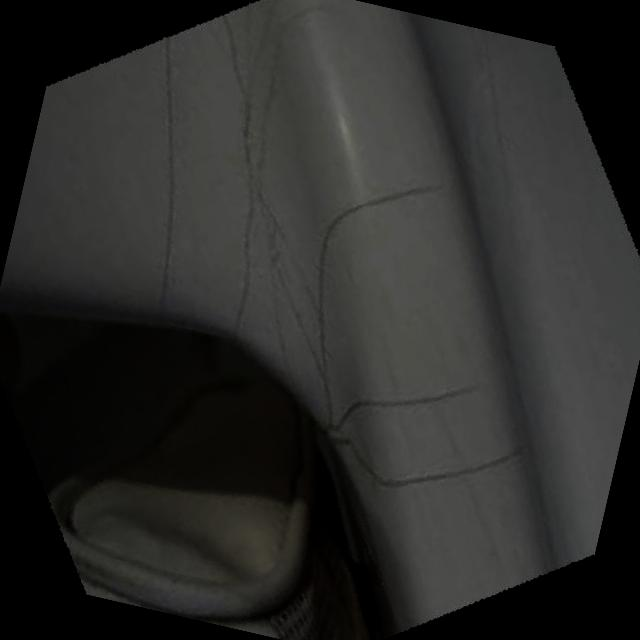crack: (330, 428, 522, 522), (328, 356, 494, 440), (280, 158, 440, 240)
